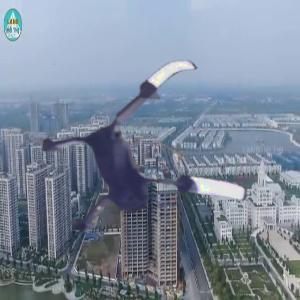drone: (23, 48, 260, 285)
